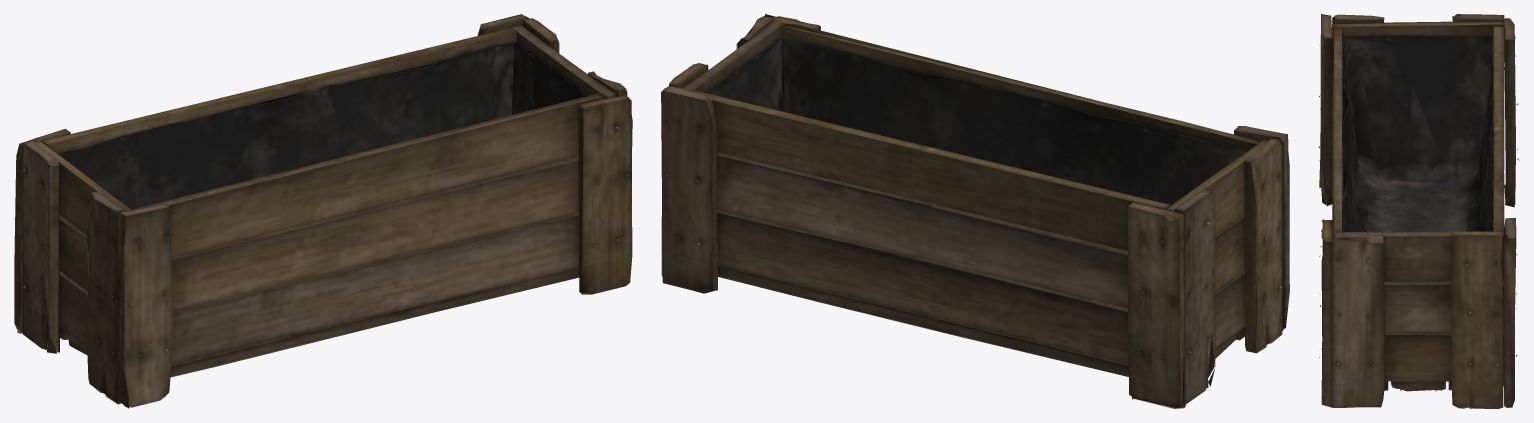
The model's file is planter_02.glb.
The picture shows the model from 3 angles, left to right: view 1: azimuth 30°, elevation 25°; view 2: azimuth 150°, elevation 25°; view 3: azimuth 270°, elevation 25°; orthographic projection. The views are drawn at different scales.
Visible parts, largest first — view 1: planter_02; view 2: planter_02; view 3: planter_02.
Part boxes in pixels (bbox=[...]): planter_02: bbox=[14, 14, 632, 408]; planter_02: bbox=[661, 14, 1289, 408]; planter_02: bbox=[1318, 14, 1519, 408].
Size of the model in its own units: 1.66 by 0.6 by 0.6262.
Materials: 1 (1 with a texture image).
